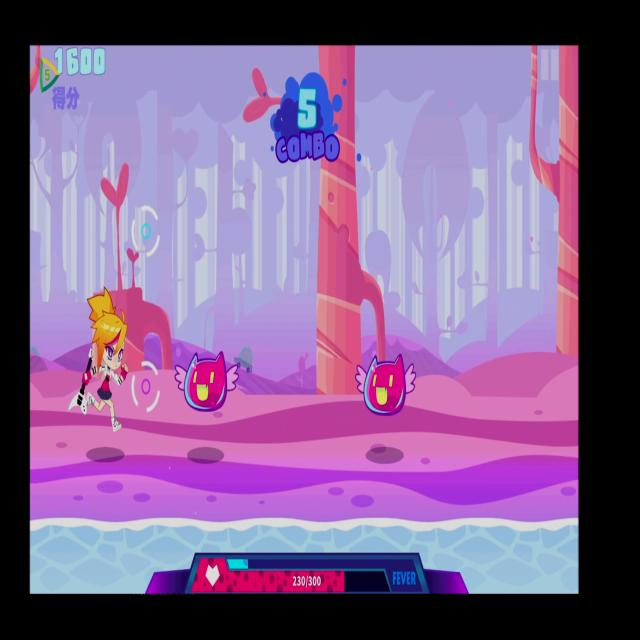mao: (170, 338, 246, 426), (348, 342, 420, 424)
